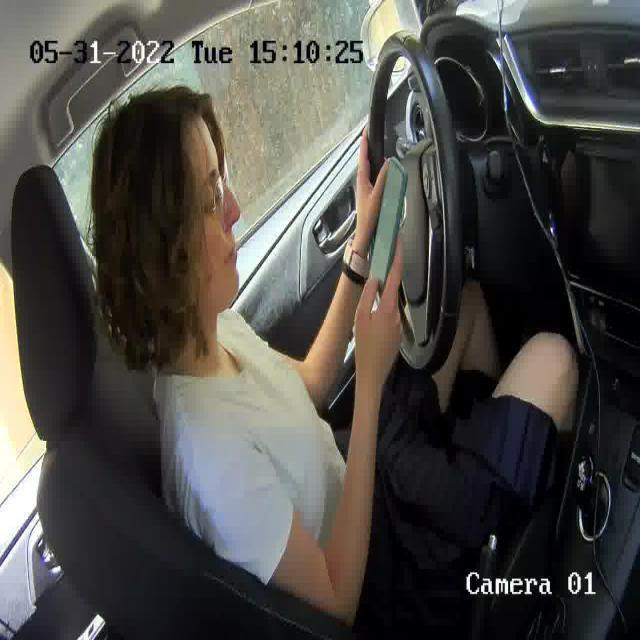Eye-Close: (204, 192, 220, 211)
Inattentive: (92, 85, 241, 317)
Normal: (220, 240, 238, 265)
